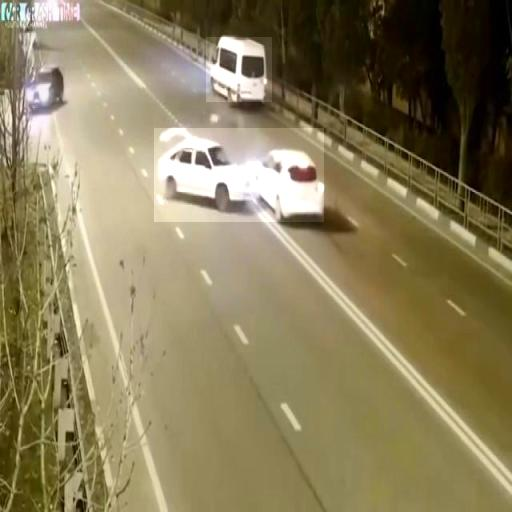小汽车: (206, 37, 272, 102), (26, 67, 66, 109)
小汽车撞小汽车: (154, 128, 324, 222)
